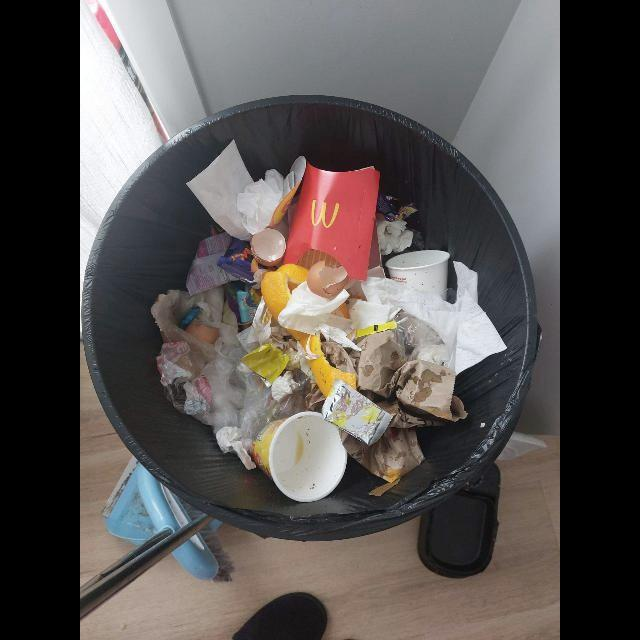cardboard: (283, 162, 380, 281)
food_wrapper: (321, 379, 393, 446), (217, 236, 283, 292), (376, 192, 419, 222)
paper: (321, 332, 468, 496), (345, 261, 508, 376), (237, 169, 294, 234), (385, 250, 450, 301)
plastic_bag: (198, 343, 306, 453)
